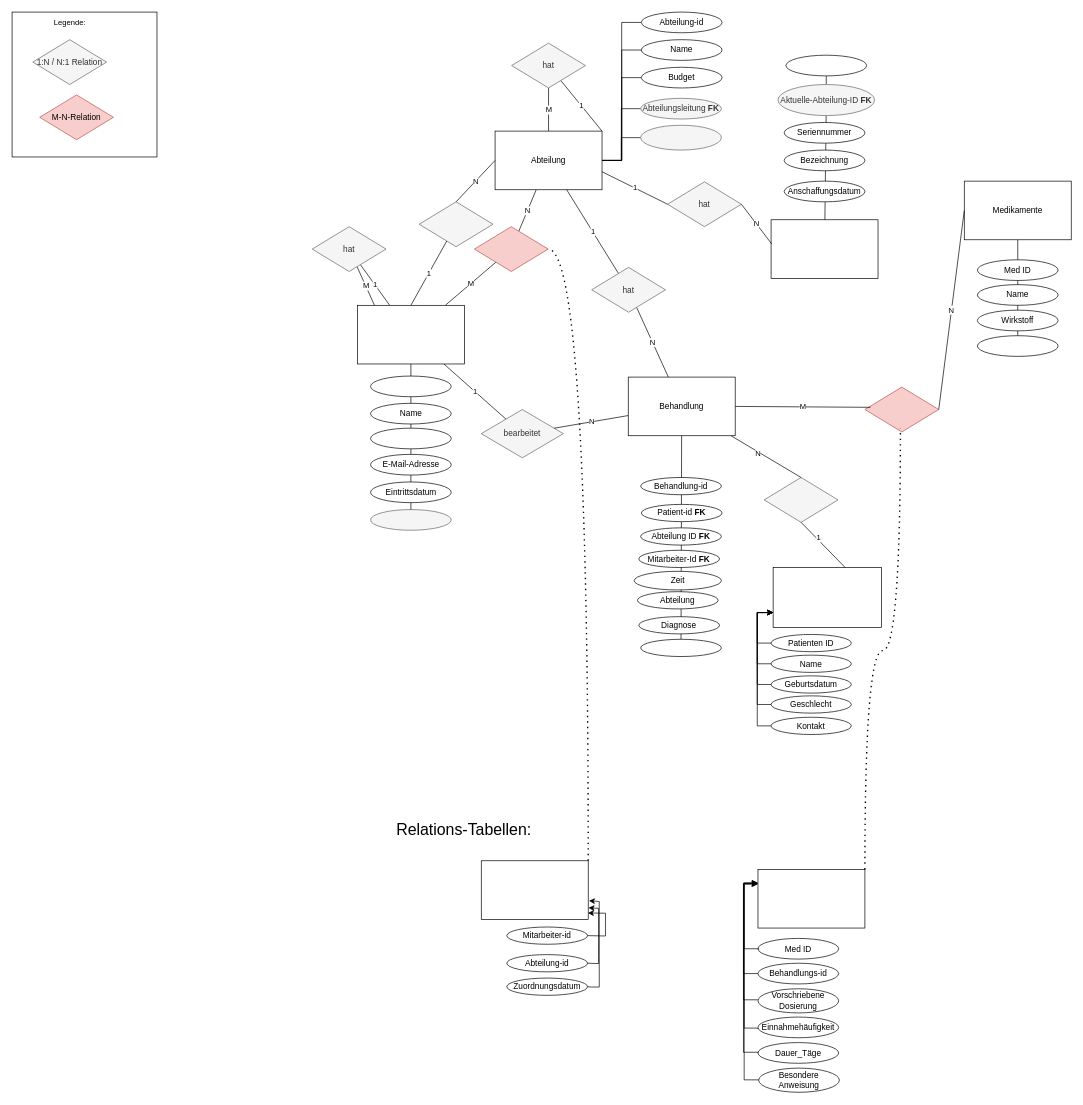
Some shapes in this 1083 by 1105 pixel diagram are drawn without their labels. The centre of each missing label's shape, as x and y in pixels:
Arzt: the point at 410,334
Dosierung: the point at 1017,345
Fachrichtung: the point at 410,438
geht zur: the point at 800,499
gehört zu: the point at 511,249
Geräte: the point at 824,248
leitet: the point at 455,224
Medikamentenrezept: the point at 811,898
Mitarbeiter ID: the point at 410,386
Oberabteilung REC: the point at 680,137
Patienten: the point at 826,597
Status: the point at 680,648
Vorgesetzter REC: the point at 410,519
Wartungsintervall: the point at 826,65
zugeordenet zu: the point at 901,409
Ärzten Zuordnung an Abteilungen: the point at 534,889
